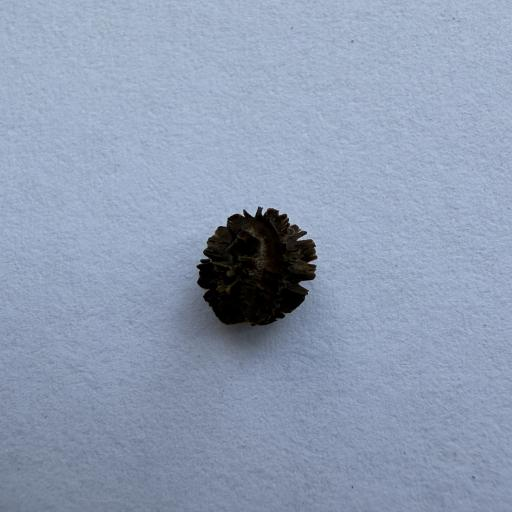papaya_seed: (169, 183, 355, 335)
